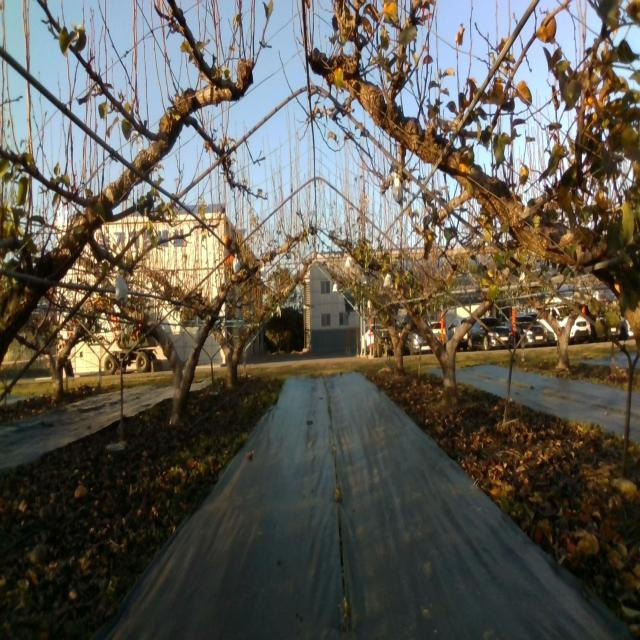pearbags: (115, 270, 129, 302), (392, 173, 403, 208)
